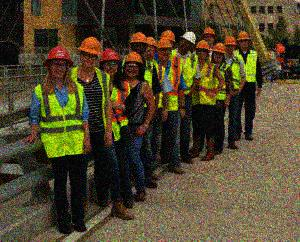helmet: (43, 46, 74, 78), (76, 35, 100, 65), (125, 51, 145, 80), (101, 48, 121, 74), (129, 30, 146, 54), (178, 30, 196, 52), (157, 37, 173, 61), (145, 35, 159, 59), (211, 42, 226, 62), (223, 34, 238, 54), (196, 39, 210, 60), (237, 30, 252, 49), (161, 28, 176, 46), (203, 26, 216, 43)
